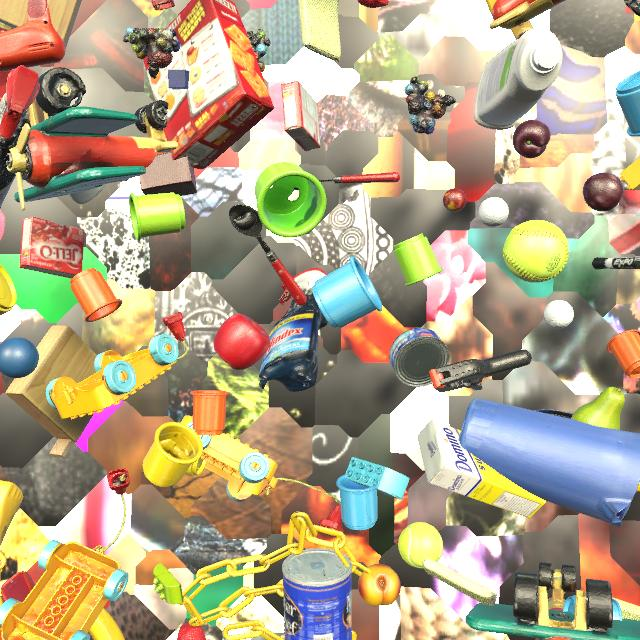ycb_002_master_chef_can: (282, 548, 352, 640)
ycb_003_cracker_box: (143, 0, 275, 169), (0, 22, 14, 101)
ycb_004_sugar_box: (418, 420, 546, 519)
ycb_006_mustard_bottle: (0, 480, 23, 546)
ycb_007_tuna_fish_can: (389, 328, 450, 387)
ycb_009_gelatin_box: (19, 216, 85, 278), (281, 80, 321, 151)
ycb_011_banana: (89, 608, 125, 640)
ycb_012_strawberry: (177, 622, 206, 640), (357, 0, 389, 8)
ycb_013_apple: (213, 314, 270, 370)
ycb_014_lemon: (636, 483, 640, 492)
ycb_015_peach: (358, 564, 401, 606)
ycb_016_pear: (571, 387, 625, 430)
ycb_018_plum: (583, 173, 624, 212), (512, 120, 551, 158)
